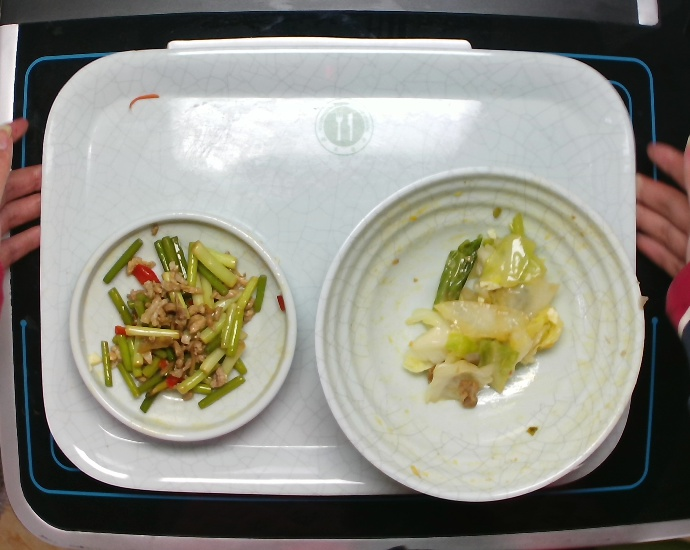JYsf-Da_Tang_Wan: (316, 162, 651, 508)
JYsf-Xiao_Yuan_Pan: (65, 206, 308, 450)
